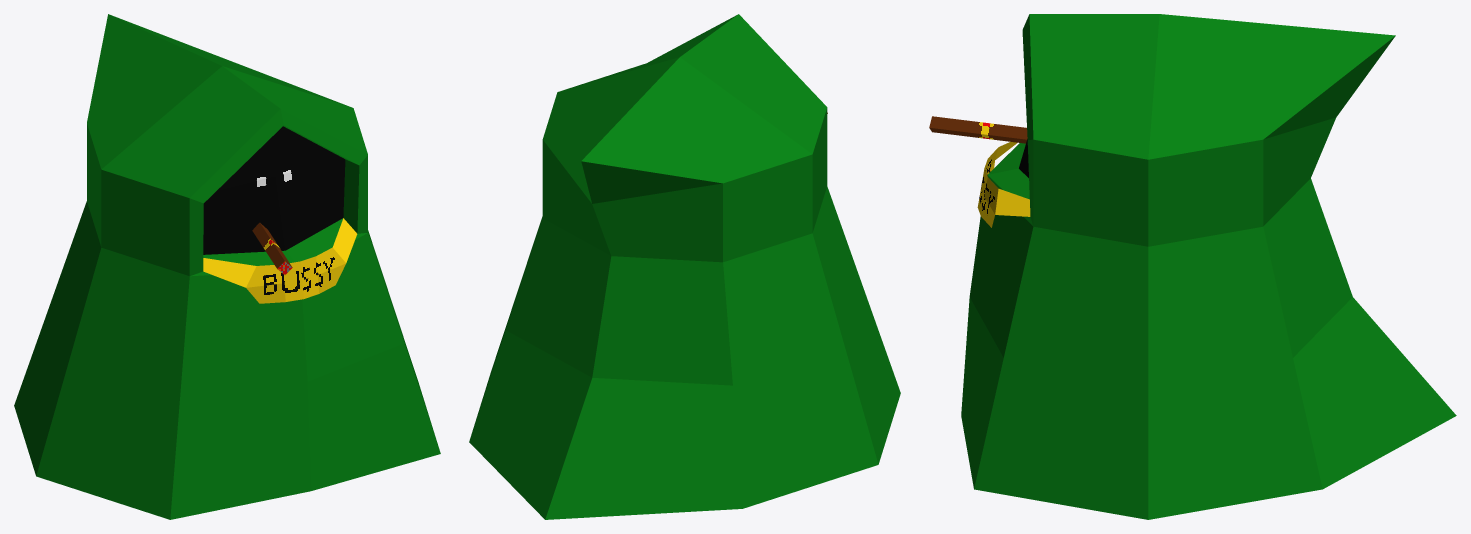
The model's file is GroundP2.fbx.
3 renders of one model, left to right at view 1: azimuth 30°, elevation 25°; view 2: azimuth 150°, elevation 25°; view 3: azimuth 270°, elevation 25°, orthographic. The views are drawn at different scales.
Visible parts, largest first — view 1: GroundPlayer2; view 2: GroundPlayer2; view 3: GroundPlayer2.
Part boxes in pixels (left/top/right/bottom): GroundPlayer2: left=14, top=14, right=440, bottom=519; GroundPlayer2: left=469, top=14, right=900, bottom=519; GroundPlayer2: left=929, top=14, right=1456, bottom=519.
Size of the model in its own units: 157 by 141 by 168.
